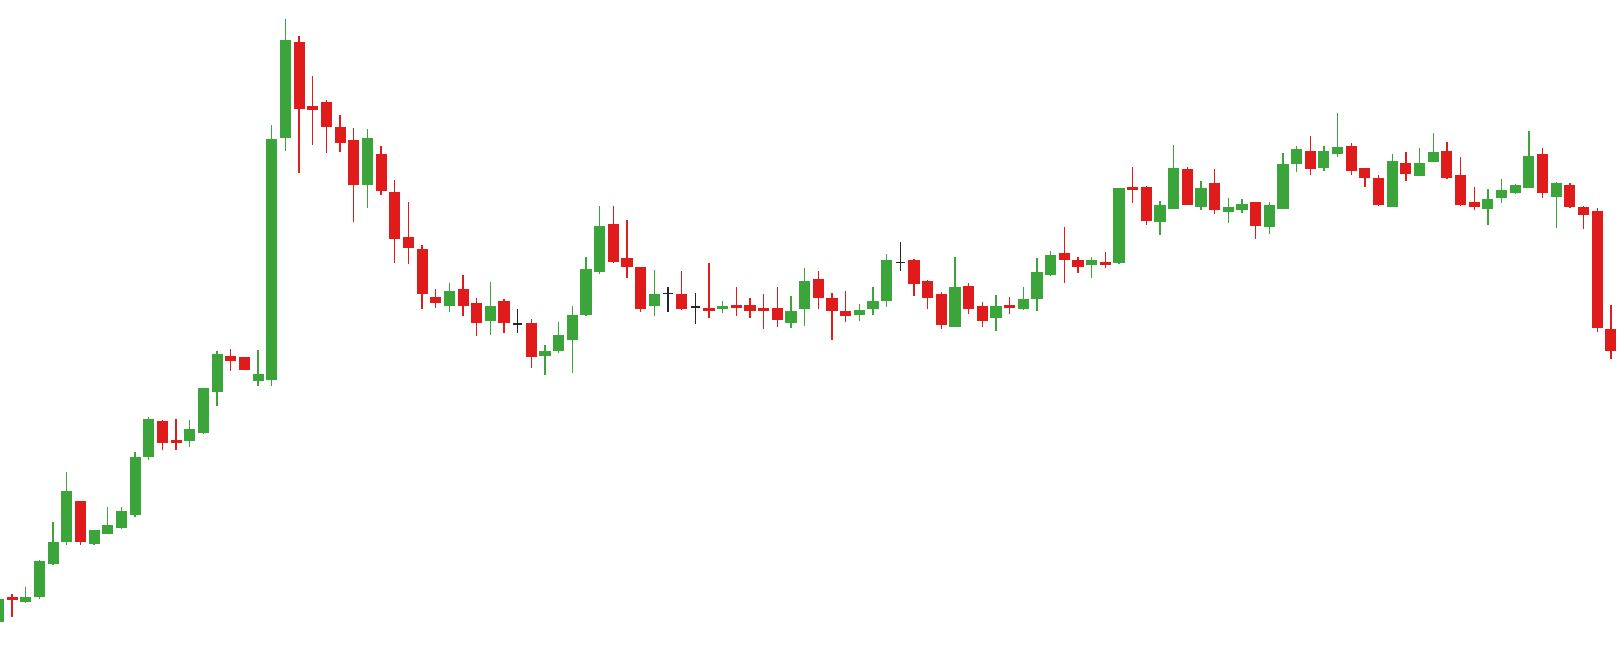sell: (1427, 128, 1551, 212)
